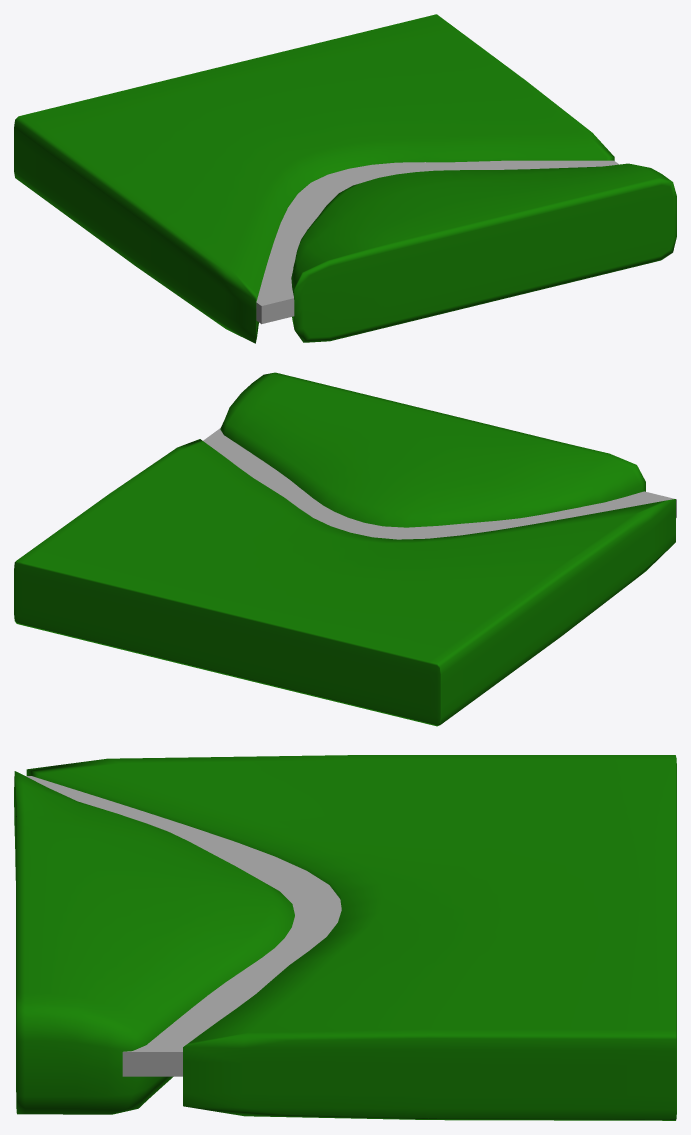
The model's file is terreno2.fbx.
3 views of the same model, one above another, from view 1: azimuth 30°, elevation 25°; view 2: azimuth 150°, elevation 25°; view 3: azimuth 270°, elevation 25° (orthographic). The views are drawn at different scales.
Visible parts, largest first — view 1: pCube2, pCube1, rio; view 2: pCube2, pCube1, rio; view 3: pCube2, pCube1, rio.
Boxes of the visible parts, box(x1,y1,x2,y2) form: pCube2: box(14, 14, 614, 343); pCube1: box(291, 163, 676, 342); rio: box(256, 160, 618, 324); pCube2: box(14, 439, 675, 726); pCube1: box(220, 372, 645, 527); rio: box(203, 428, 676, 539); pCube2: box(26, 755, 676, 1120); pCube1: box(14, 771, 294, 1114); rio: box(26, 776, 341, 1076).
Bounding box in the file's own units: 24.58 × 4.44 × 24.24.
